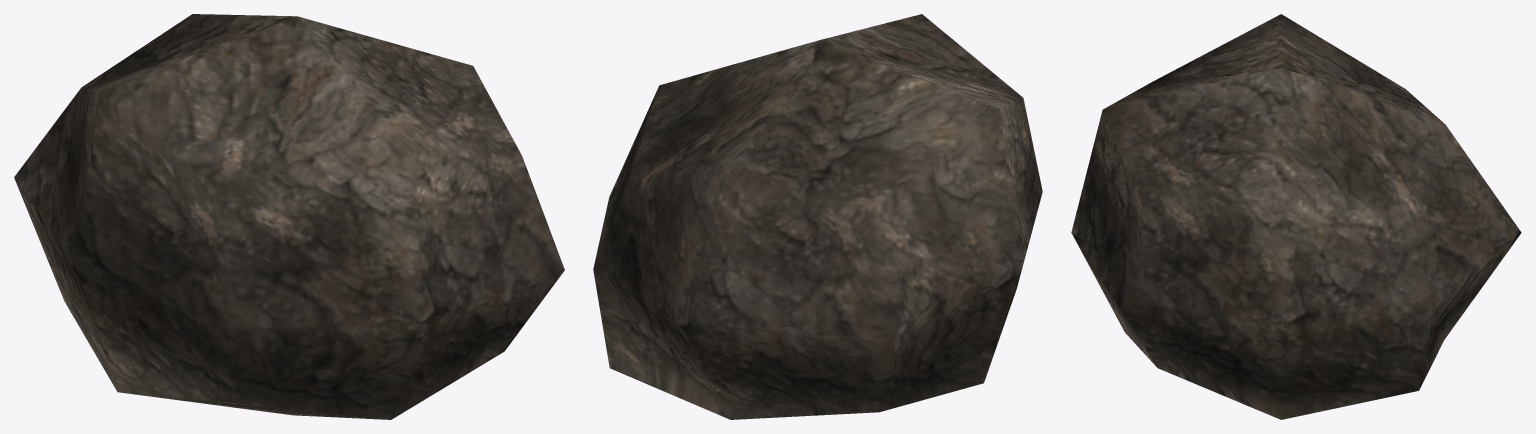
File: Rock_01.glb
3 views of the same model, side by side, from view 1: azimuth 30°, elevation 25°; view 2: azimuth 150°, elevation 25°; view 3: azimuth 270°, elevation 25° (orthographic). The views are drawn at different scales.
Visible parts, largest first — view 1: Rock_01.001; view 2: Rock_01.001; view 3: Rock_01.001.
Boxes of the visible parts, <box> form: Rock_01.001: <box>14,14,564,419</box>; Rock_01.001: <box>593,14,1042,419</box>; Rock_01.001: <box>1071,14,1521,419</box>.
Bounding box in the file's own units: 4.63 × 3.88 × 4.95.
1 material, 1 textured.
